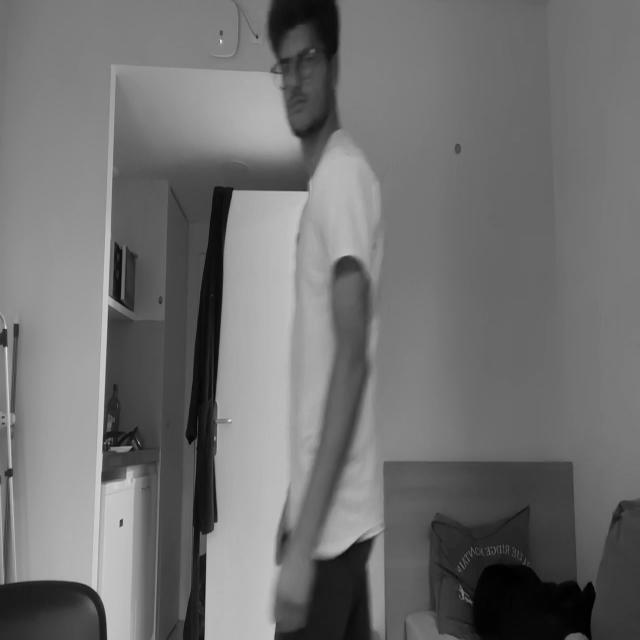elbow: (336, 344, 372, 386)
hand: (271, 548, 310, 634), (274, 484, 288, 561)
shoulder: (321, 159, 376, 242)
